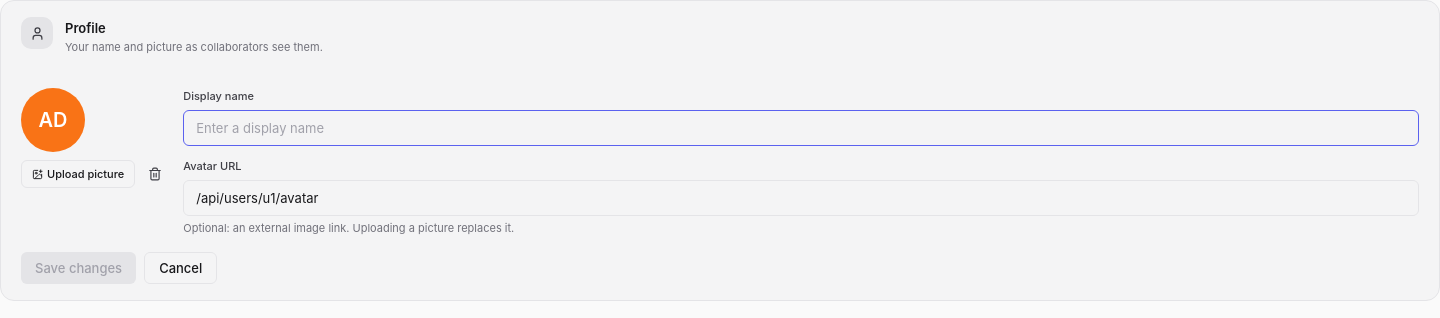
ProfileSection › still refuses a hand-typed relative path that is not the upload
Replace the text in the field labelled "Avatar URL" with "/api/users/u2/avatar" at coordinates (801, 198), box top-left (196, 189), bottom-right (1406, 207)
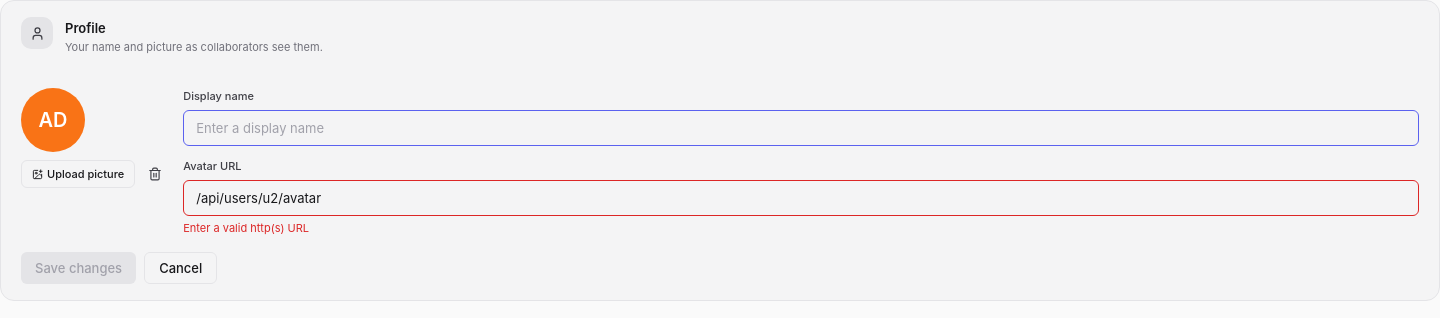
Check: the text "Enter a valid http(s) URL" is shown, box top-left (183, 221), bottom-right (309, 235)
